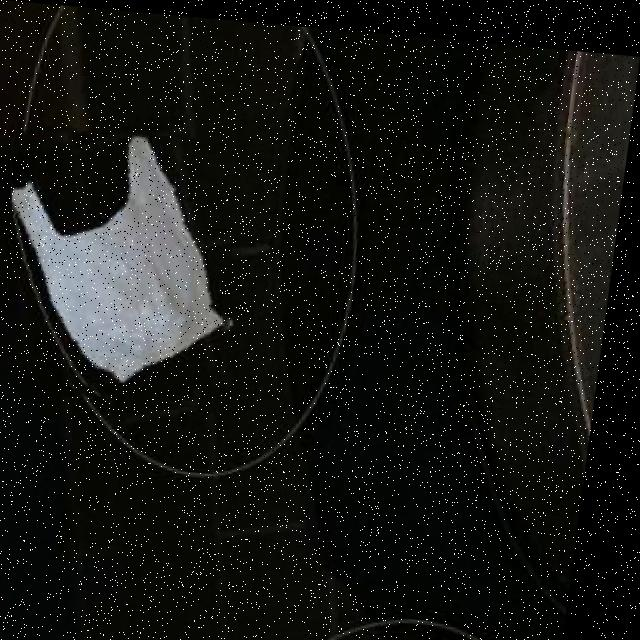litter: (0, 123, 265, 406)
